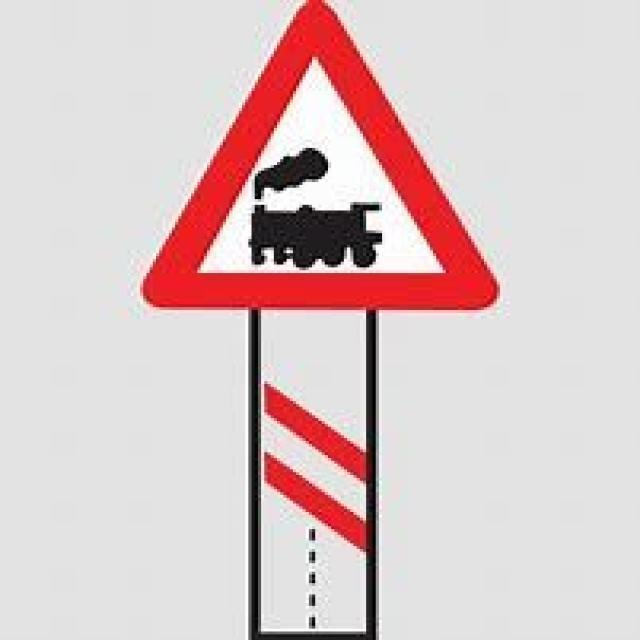unguarded level crossing: (146, 23, 499, 313)
